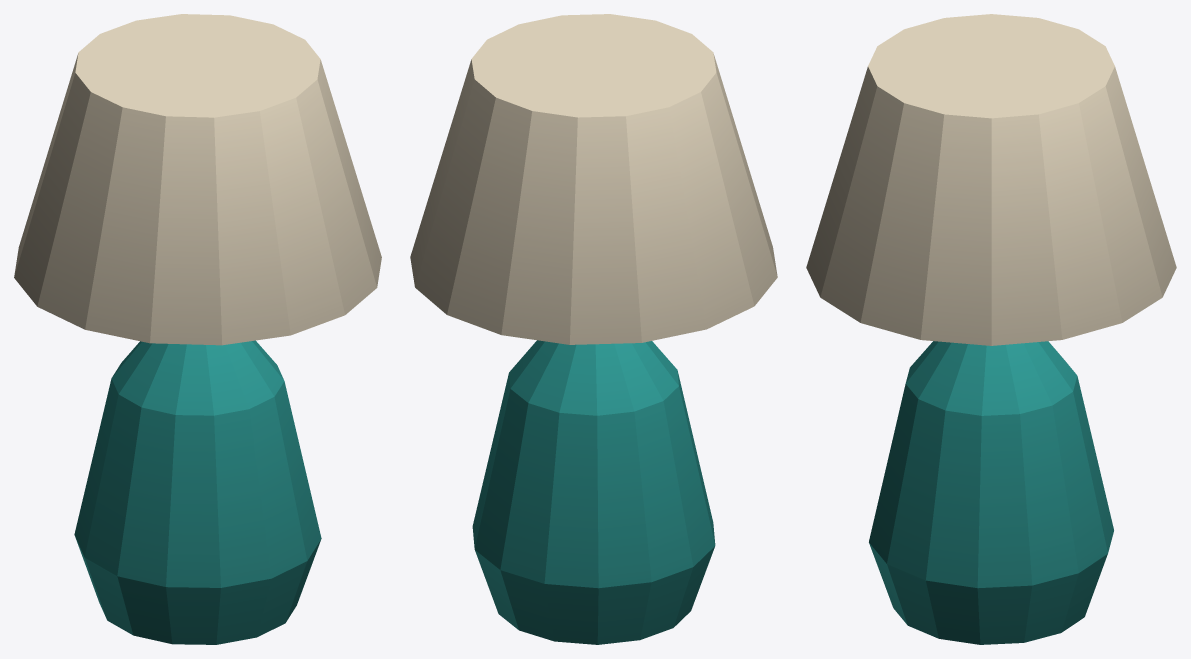
Rendered from table_lamp_01.fbx.
The picture shows the model from 3 angles, left to right: view 1: azimuth 30°, elevation 25°; view 2: azimuth 150°, elevation 25°; view 3: azimuth 270°, elevation 25°; orthographic projection.
Visible parts, largest first — view 1: table_lamp_01_LOD0; view 2: table_lamp_01_LOD0; view 3: table_lamp_01_LOD0.
Part boxes in pixels (bbox=[...]): table_lamp_01_LOD0: bbox=[14, 14, 381, 644]; table_lamp_01_LOD0: bbox=[410, 14, 777, 644]; table_lamp_01_LOD0: bbox=[806, 14, 1176, 644].
Size of what is drawn, in the model's own units: 0.3 by 0.48 by 0.3.
1 material, 1 textured.
